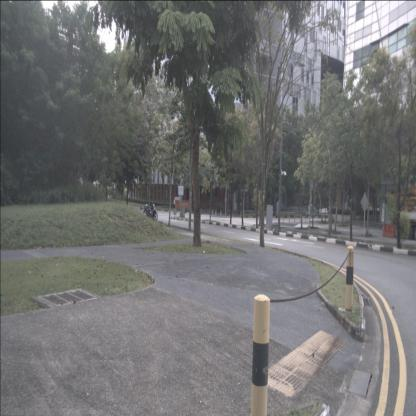barrier: (382, 223, 396, 238)
